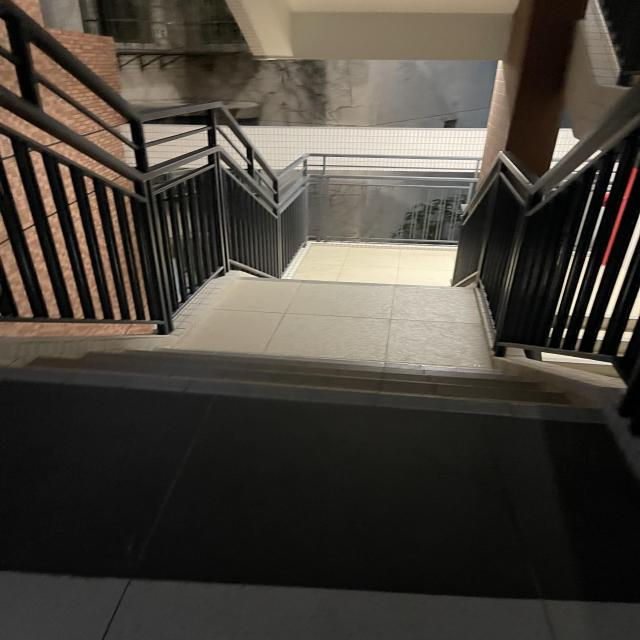Stairs: (0, 270, 600, 445)
